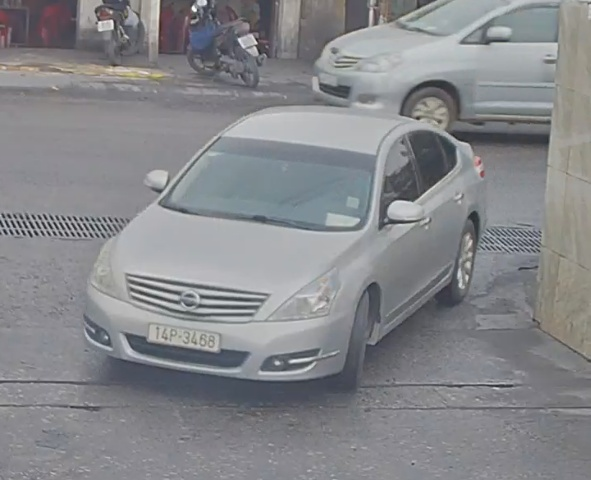vehicle plate: (147, 317, 223, 356)
